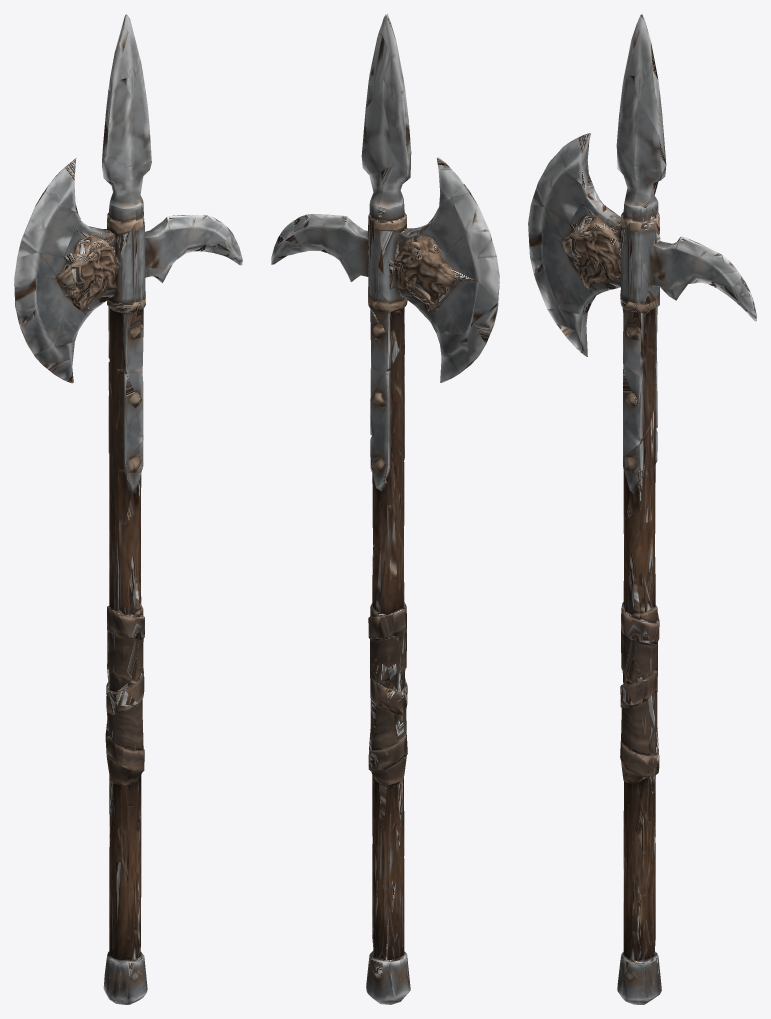
The model's file is halberd.glb.
3 views of the same model, side by side, from view 1: azimuth 30°, elevation 25°; view 2: azimuth 150°, elevation 25°; view 3: azimuth 330°, elevation 25° (orthographic).
Visible parts, largest first — view 1: Mesh_0; view 2: Mesh_0; view 3: Mesh_0.
Part boxes in pixels (x1=…): Mesh_0: x1=14, y1=14, x2=242, y2=1004; Mesh_0: x1=271, y1=14, x2=499, y2=1004; Mesh_0: x1=528, y1=14, x2=756, y2=1004.
Size of the model in its own units: 0.5086 by 2.1 by 0.087.
Materials: 1 (1 with a texture image).
